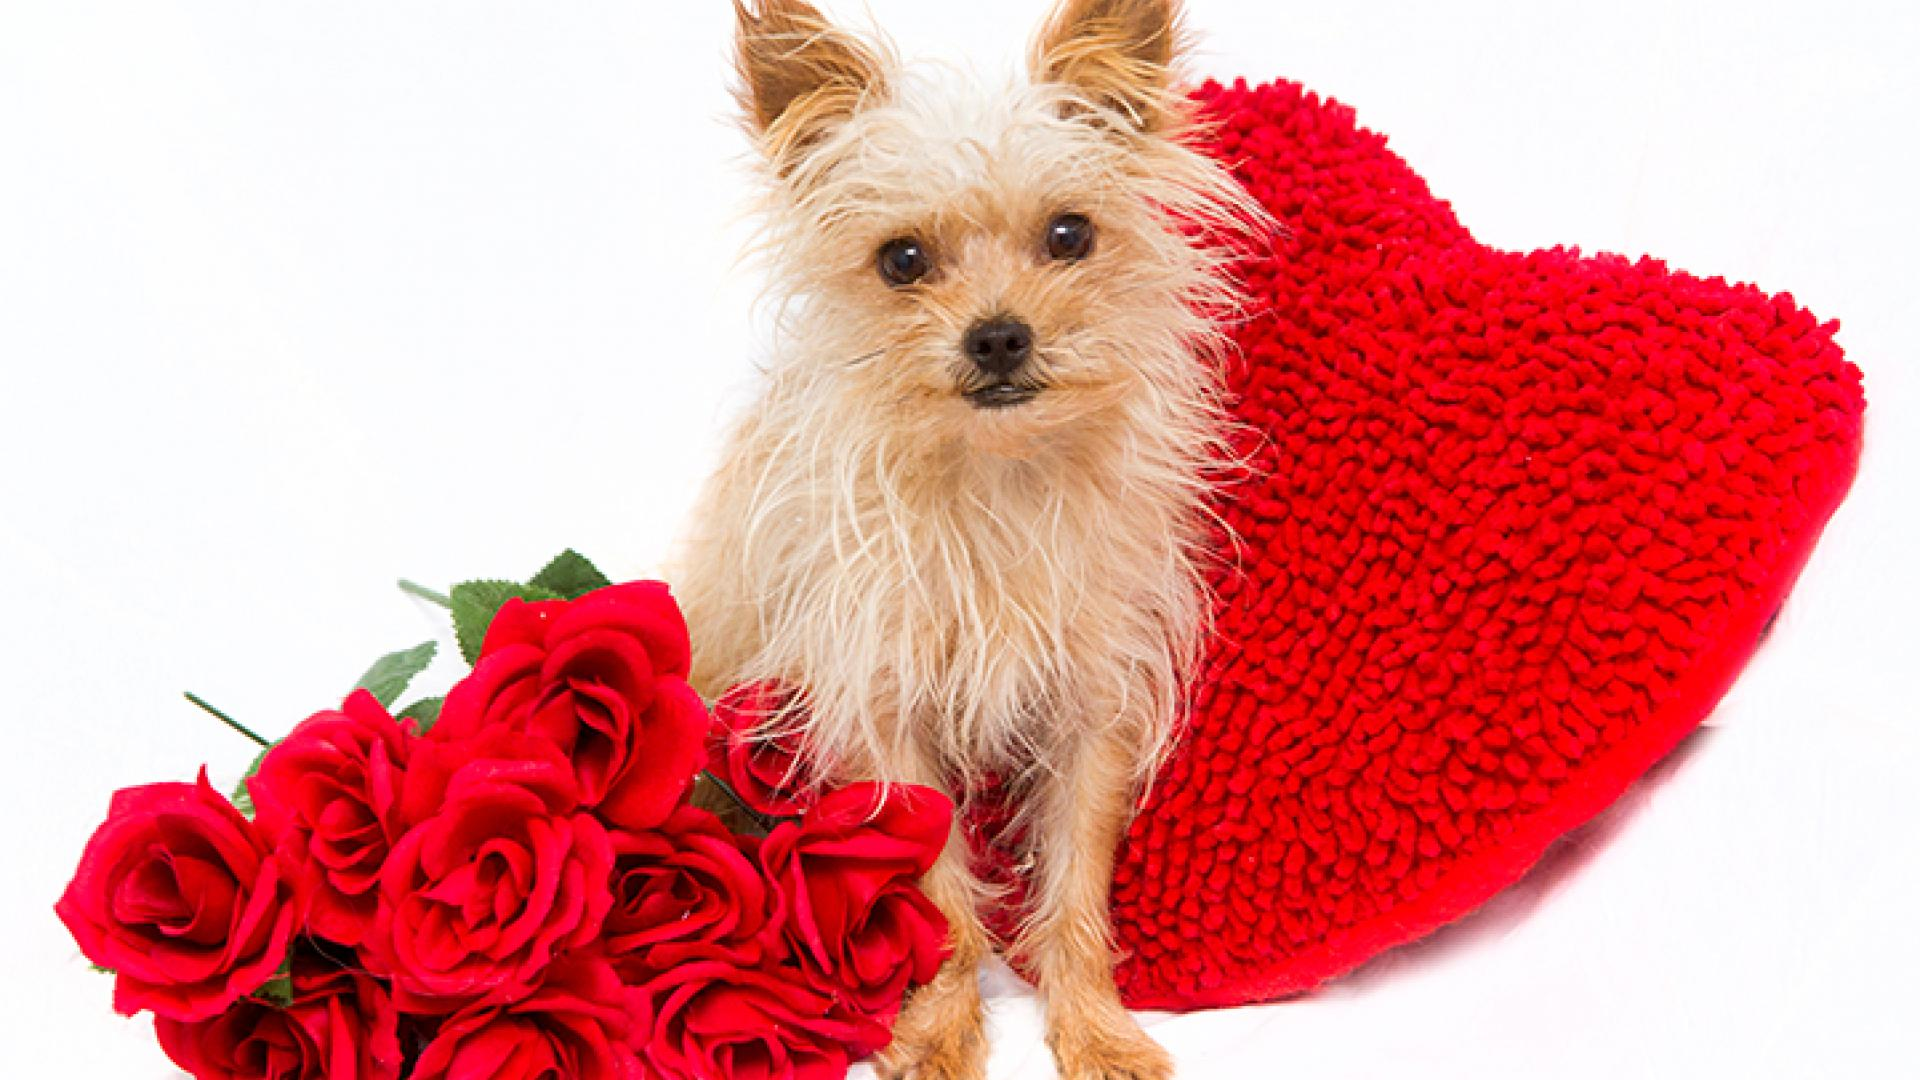pet: (682, 24, 1143, 742)
